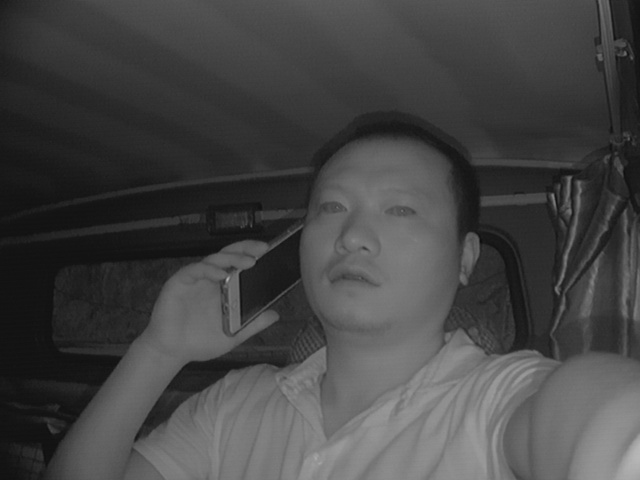hand: (150, 237, 277, 359)
